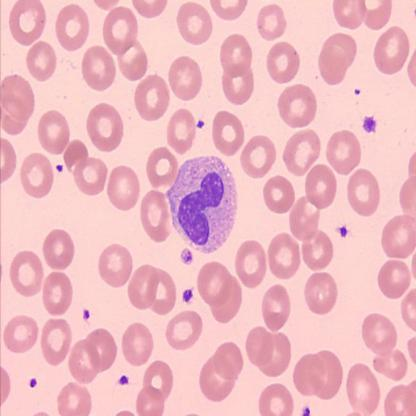Band Neutrophil: (164, 152, 239, 255)
